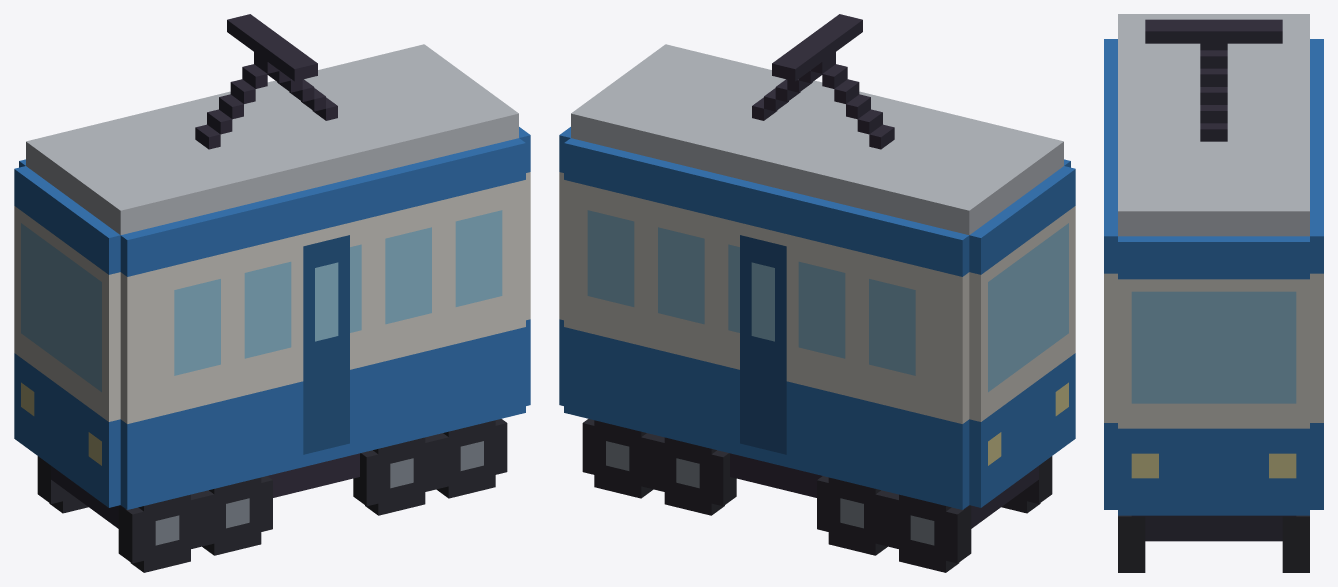
Rendered from railway-blue.glb.
3 views of the same model, side by side, from view 1: azimuth 30°, elevation 25°; view 2: azimuth 150°, elevation 25°; view 3: azimuth 270°, elevation 25° (orthographic).
Visible parts, largest first — view 1: prop; view 2: prop; view 3: prop.
Part boxes in pixels (x1,y1,x2,y2): prop: (14,14,530,572); prop: (559,14,1075,572); prop: (1104,14,1323,572).
Size of the model in its own units: 15.57 by 16 by 6.92.
